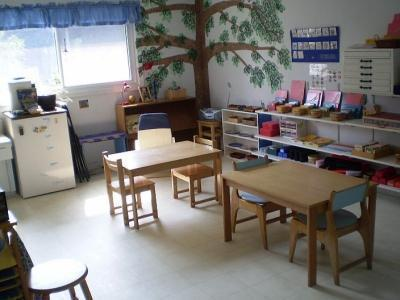Electrodomestico: (13, 109, 75, 191)
Ventana: (10, 14, 127, 90)
